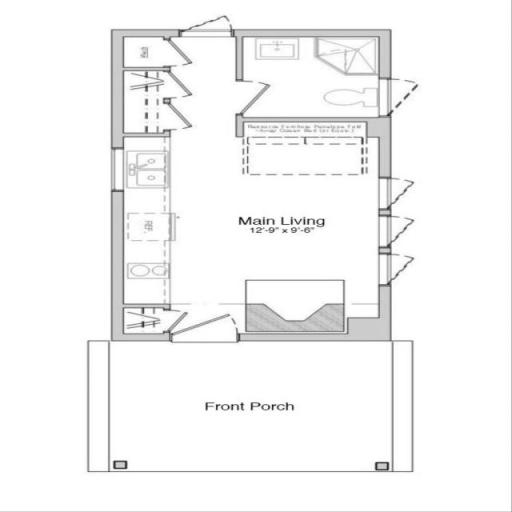hall: (140, 134, 382, 345)
porch: (116, 351, 442, 472)
